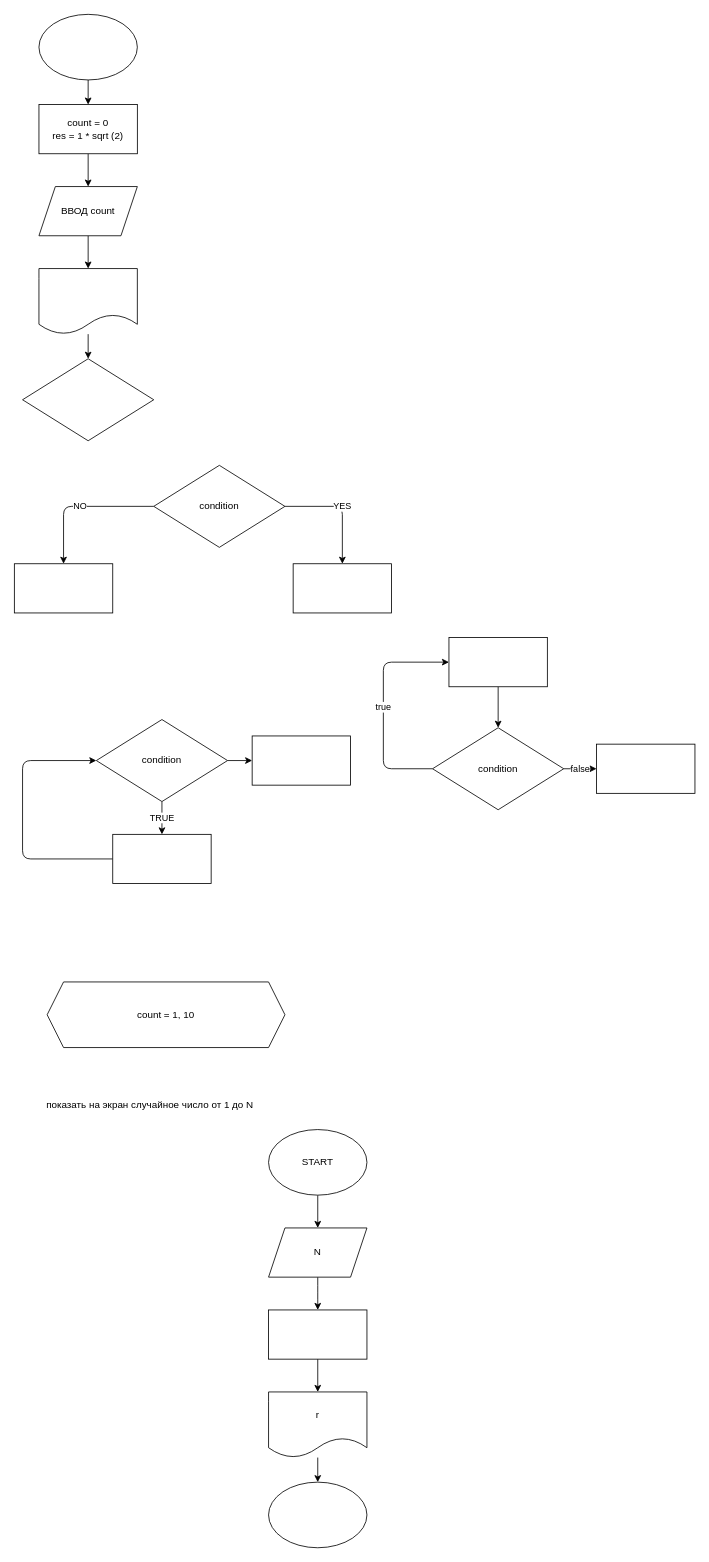
This 709x1562 diagram has some shape labels left out. Here are the shapes that lost their labels. From the top down, the centre of each, then its label:
At point 87,47: "Start End".
At point 87,301: "ВЫВОД res".
At point 317,1334: "r = random (1,N)".
At point 317,1514: "END".
